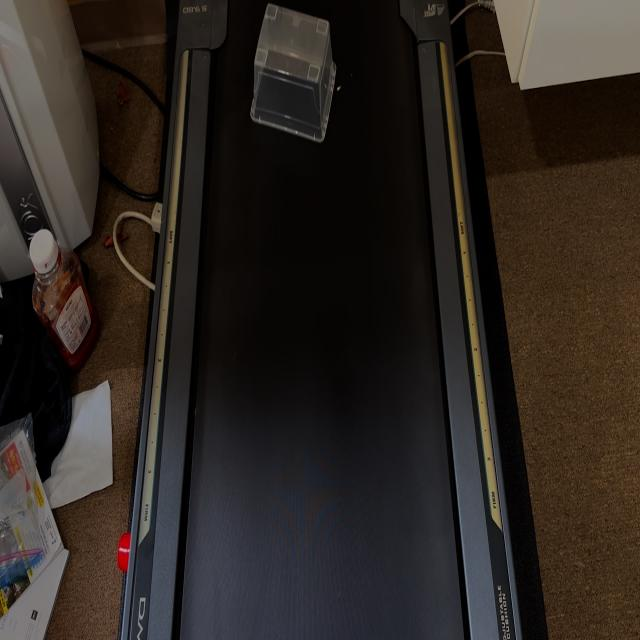Recycle: (250, 5, 338, 143)
